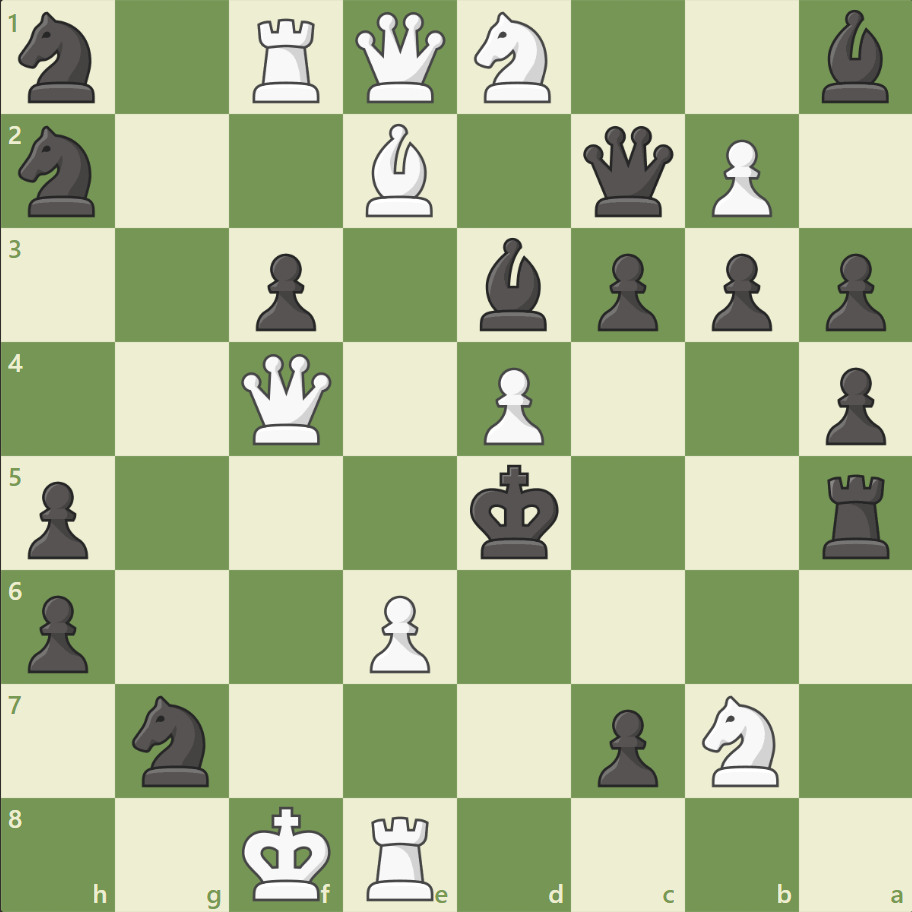B: (358, 120, 442, 222)
K: (238, 798, 338, 906)
N: (692, 688, 789, 791), (465, 7, 562, 110)
P: (474, 359, 549, 450), (701, 132, 776, 223), (361, 586, 435, 677)
Q: (237, 349, 336, 449), (351, 9, 450, 108)
R: (246, 12, 329, 109), (360, 806, 442, 904)
b: (471, 233, 555, 336), (812, 6, 896, 109)
k: (465, 458, 565, 566)
n: (124, 688, 222, 791), (11, 7, 108, 110), (11, 121, 108, 223)
p: (20, 586, 95, 677), (20, 473, 95, 564), (701, 246, 776, 337), (247, 246, 322, 337), (588, 700, 662, 791), (815, 359, 889, 450), (815, 246, 889, 337), (588, 246, 662, 337)
q: (578, 122, 677, 222)
r: (814, 466, 897, 563)
